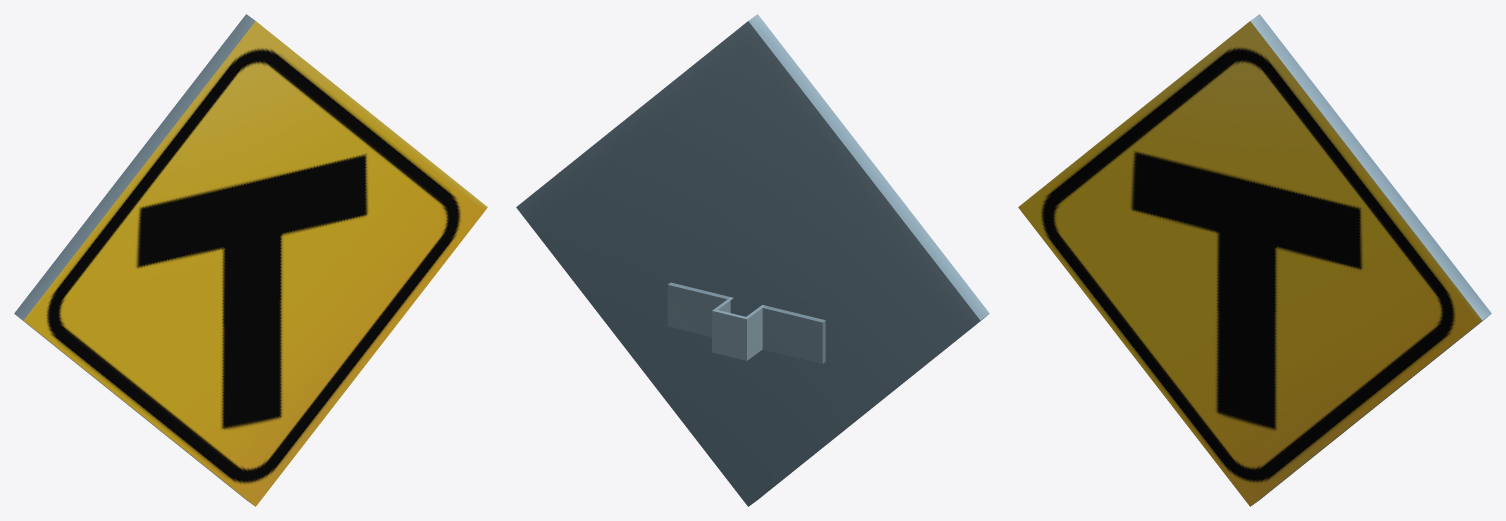
File: Sign2.fbx
The picture shows the model from 3 angles, left to right: view 1: azimuth 30°, elevation 25°; view 2: azimuth 150°, elevation 25°; view 3: azimuth 330°, elevation 25°; orthographic projection.
Visible parts, largest first — view 1: Sign2; view 2: Sign2; view 3: Sign2.
Part boxes in pixels (x1,y1,x2,y2): Sign2: (14, 14, 487, 506); Sign2: (516, 14, 989, 506); Sign2: (1018, 14, 1491, 506).
Size of the model in its own units: 1.41 by 0.1489 by 1.41.
